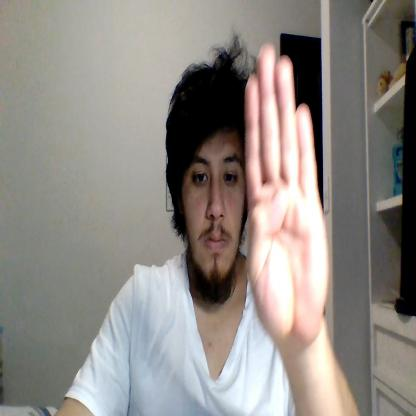B: (244, 42, 330, 346)
